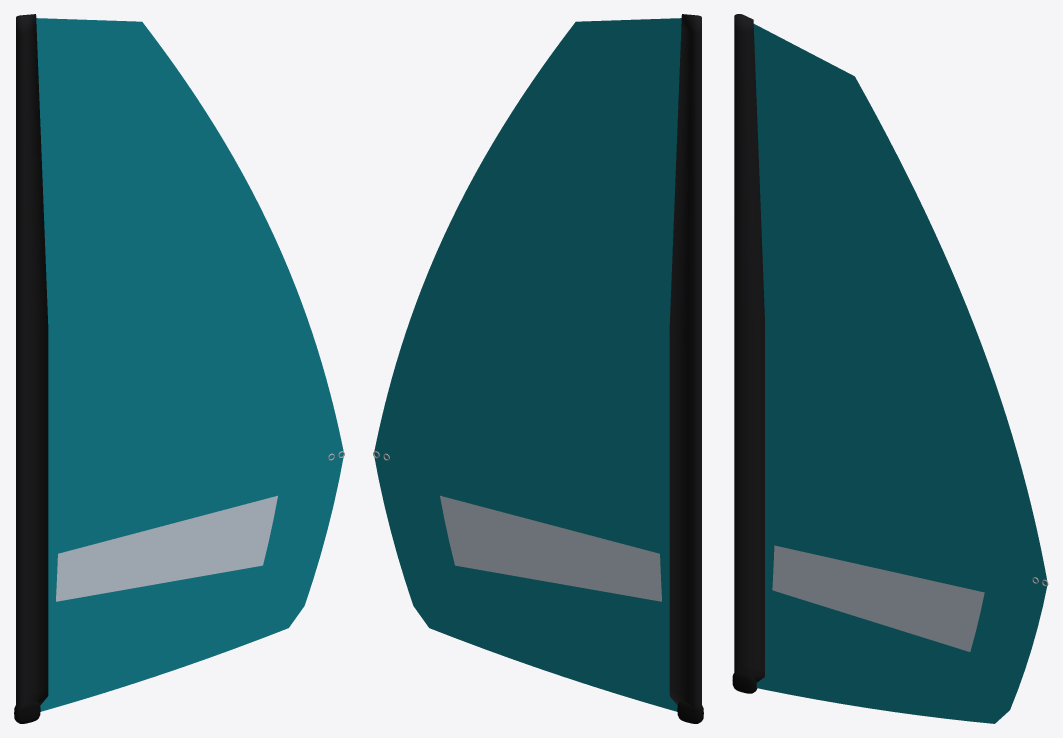
File: s3kauai_slalom_9_0.glb
3 views of the same model, side by side, from view 1: azimuth 30°, elevation 25°; view 2: azimuth 150°, elevation 25°; view 3: azimuth 330°, elevation 25° (orthographic). The views are drawn at different scales.
Parts seen in each view (by area): view 1: SailCloth; view 2: SailCloth; view 3: SailCloth.
Boxes of the visible parts, box(x1,y1,x2,y2) form: SailCloth: box(16, 14, 343, 711); SailCloth: box(374, 14, 701, 711); SailCloth: box(734, 14, 1047, 723).
Bounding box in the file's own units: 2.45 × 5.03 × 0.08.
